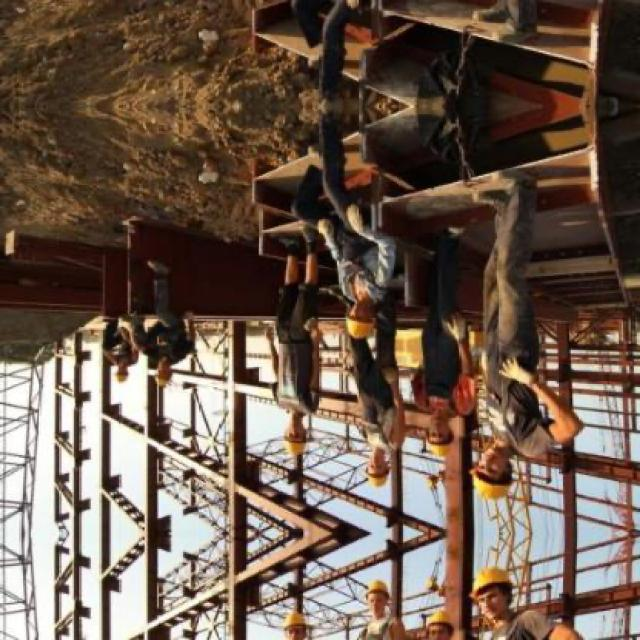con casco: (466, 418, 540, 508), (227, 391, 322, 456), (350, 424, 424, 495), (335, 284, 397, 344), (418, 405, 478, 456)
